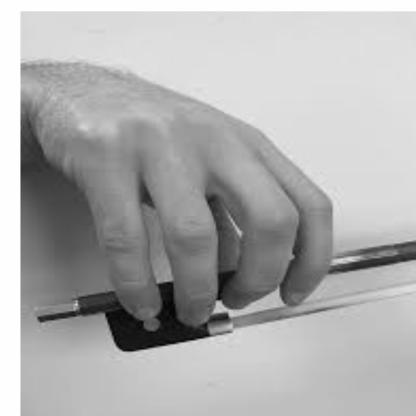good: (51, 80, 356, 337)
